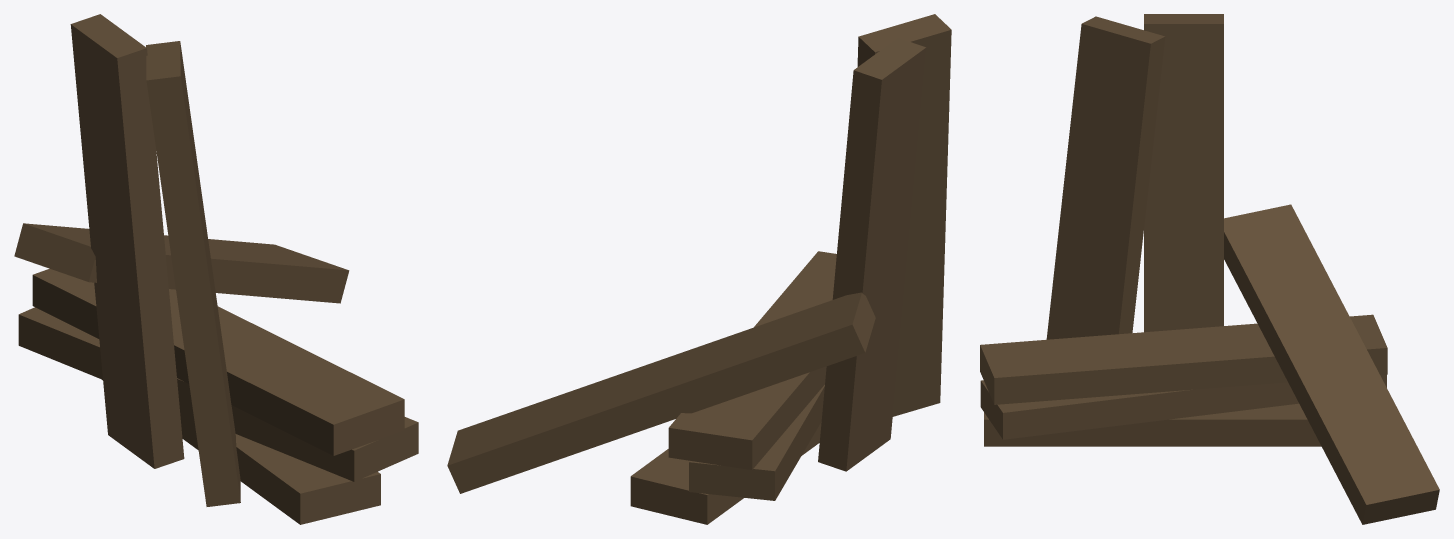
File: PRP_Tas_Planches.fbx
3 views of the same model, side by side, from view 1: azimuth 30°, elevation 25°; view 2: azimuth 150°, elevation 25°; view 3: azimuth 270°, elevation 25° (orthographic). The views are drawn at different scales.
Parts seen in each view (by area): view 1: Planche_Tas; view 2: Planche_Tas; view 3: Planche_Tas.
Part boxes in pixels (x1=…): Planche_Tas: x1=14, y1=14, x2=418, y2=524; Planche_Tas: x1=447, y1=14, x2=951, y2=524; Planche_Tas: x1=980, y1=14, x2=1439, y2=524.
Bounding box in the file's own units: 6.92 × 7.4 × 8.41.
